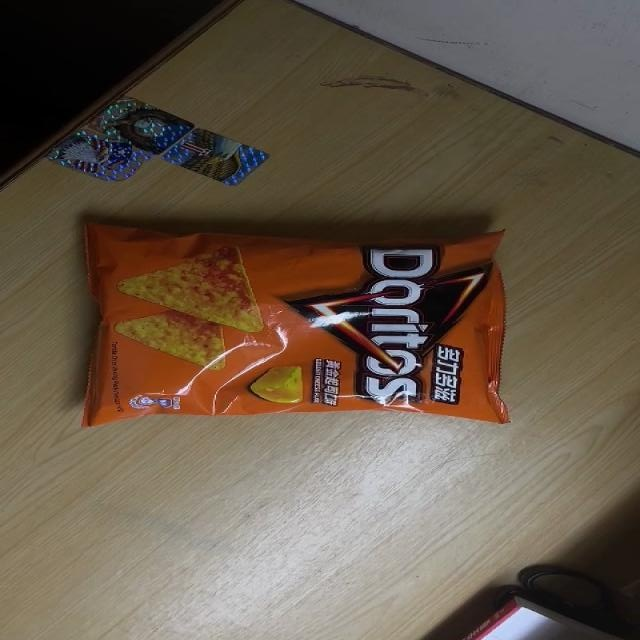Doritos: (77, 219, 511, 429)
